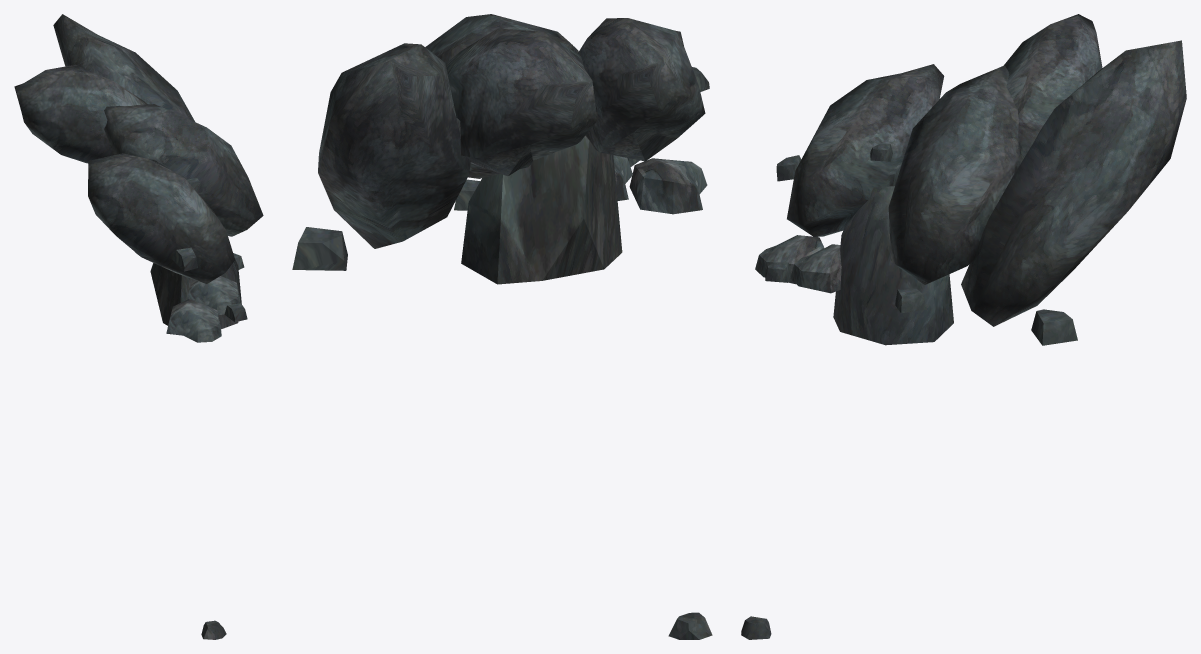
File: object_rubble11.fbx
3 renders of one model, left to right at view 1: azimuth 30°, elevation 25°; view 2: azimuth 150°, elevation 25°; view 3: azimuth 270°, elevation 25°, orthographic. The views are drawn at different scales.
Visible parts, largest first — view 1: object_rubble11-0; view 2: object_rubble11-0; view 3: object_rubble11-0.
Part boxes in pixels (bbox=[...]): object_rubble11-0: bbox=[14, 14, 263, 639]; object_rubble11-0: bbox=[292, 14, 712, 639]; object_rubble11-0: bbox=[741, 14, 1186, 639].
Bounding box in the file's own units: 6.5 × 15.04 × 10.03.
